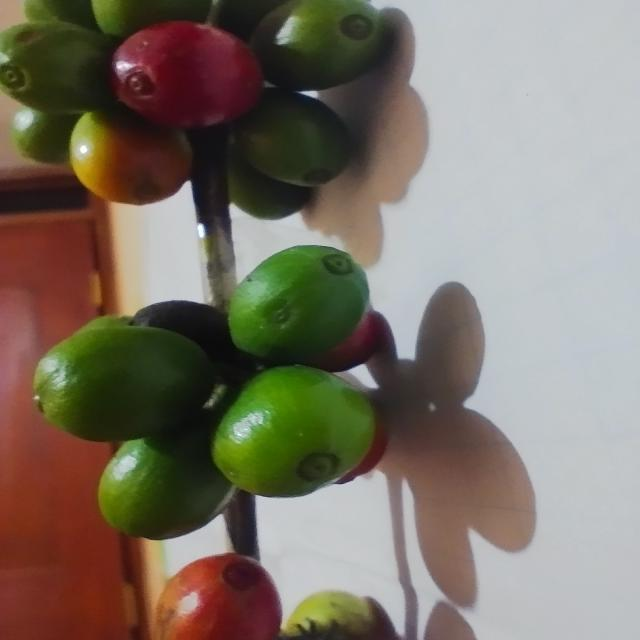Danado: (123, 301, 263, 375)
Infectado: (227, 246, 370, 366)
Sano: (33, 327, 215, 445), (212, 370, 374, 500), (97, 408, 237, 543), (112, 22, 265, 132), (255, 0, 393, 93), (67, 112, 191, 207), (150, 555, 284, 640), (242, 94, 352, 189)
